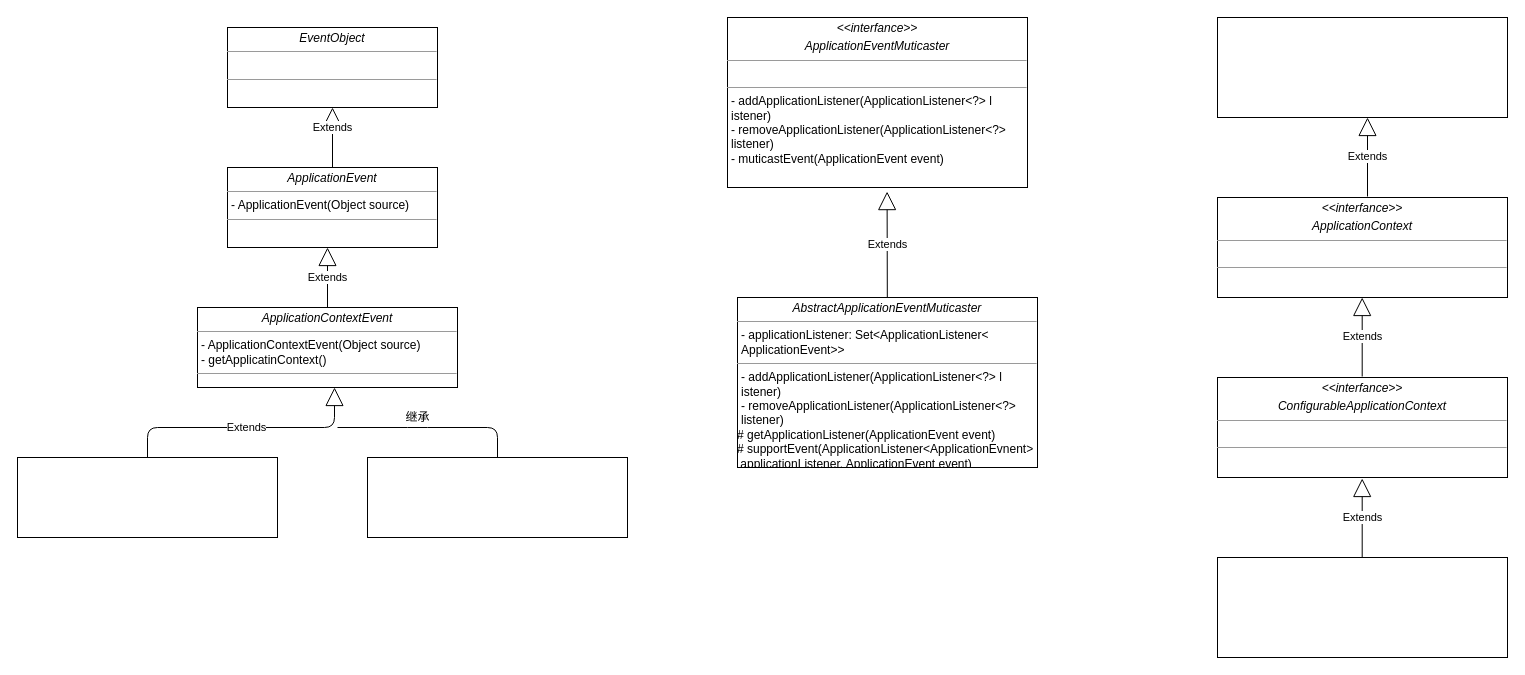
This 1525x675 diagram has some shape labels left out. Each missing label, with the box of its shape:
<<interfance>> AbstractApplicationContext - publishEvent(ApplicaitonEvent event): (1216, 556, 1508, 658)
<<interfance>> ApplicationEventPublisher - publishEvent(ApplicationEvent event): (1216, 16, 1508, 118)
ContextClosedEvent - ContextClosedEvent (Object source): (366, 456, 628, 538)
ContextRefreshedEvent - ContextRefreshedEvent(Object source): (16, 456, 278, 538)
